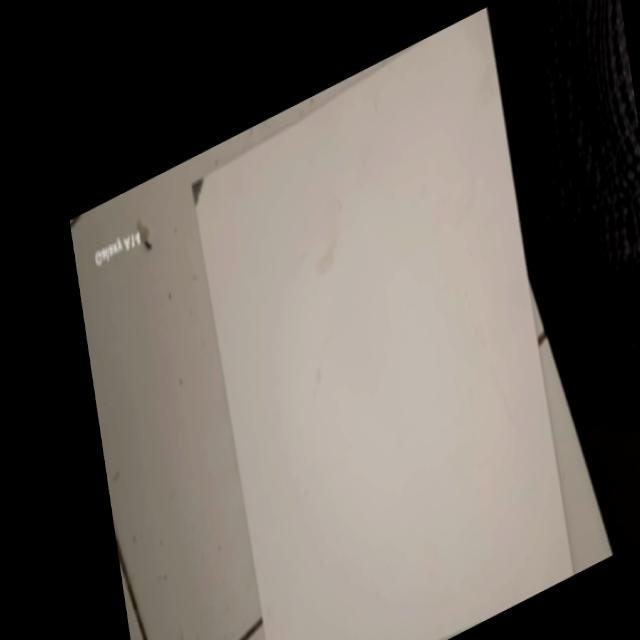TLC Plate: (192, 38, 572, 640)
